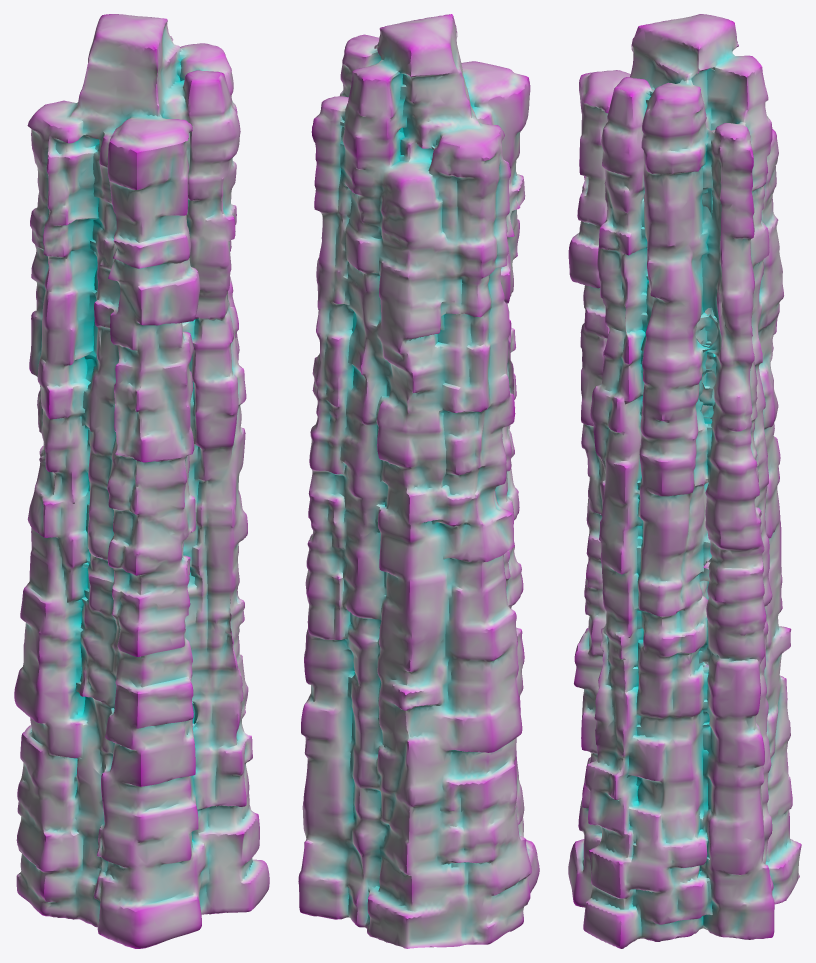
The model's file is Macico_8.fbx.
The picture shows the model from 3 angles, left to right: view 1: azimuth 30°, elevation 25°; view 2: azimuth 150°, elevation 25°; view 3: azimuth 270°, elevation 25°; orthographic projection.
Visible parts, largest first — view 1: Macico_8; view 2: Macico_8; view 3: Macico_8.
Boxes of the visible parts, x1,y1,x2,y2 form: Macico_8: (14, 14, 269, 948); Macico_8: (298, 14, 539, 948); Macico_8: (568, 14, 801, 948).
Size of the model in its own units: 90.97 by 377 by 90.1.
